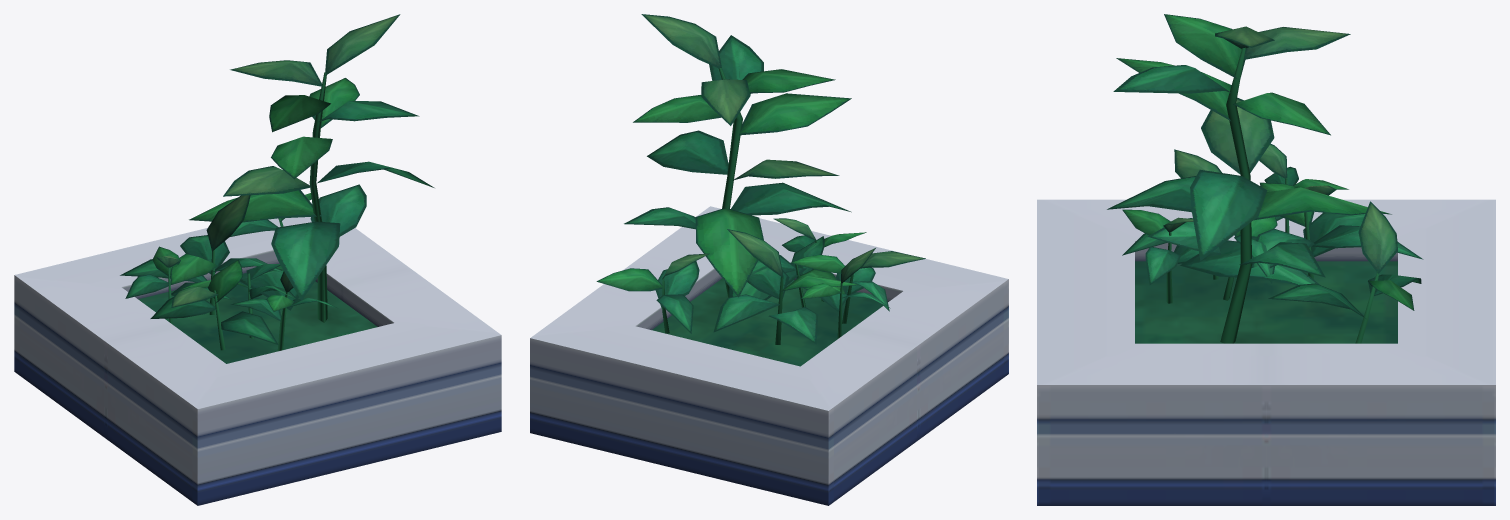
File: my_carrier_01_plantpot_02.glb
3 renders of one model, left to right at view 1: azimuth 30°, elevation 25°; view 2: azimuth 150°, elevation 25°; view 3: azimuth 270°, elevation 25°, orthographic. The views are drawn at different scales.
Visible parts, largest first — view 1: my_carrier_01_plantpot_02; view 2: my_carrier_01_plantpot_02; view 3: my_carrier_01_plantpot_02.
Boxes of the visible parts, bbox=[...] form: my_carrier_01_plantpot_02: bbox=[14, 14, 501, 505]; my_carrier_01_plantpot_02: bbox=[530, 14, 1008, 505]; my_carrier_01_plantpot_02: bbox=[1037, 14, 1495, 505].
Bounding box in the file's own units: 0.00695 × 0.00784 × 0.00727.
Materials: 1 (1 with a texture image).
